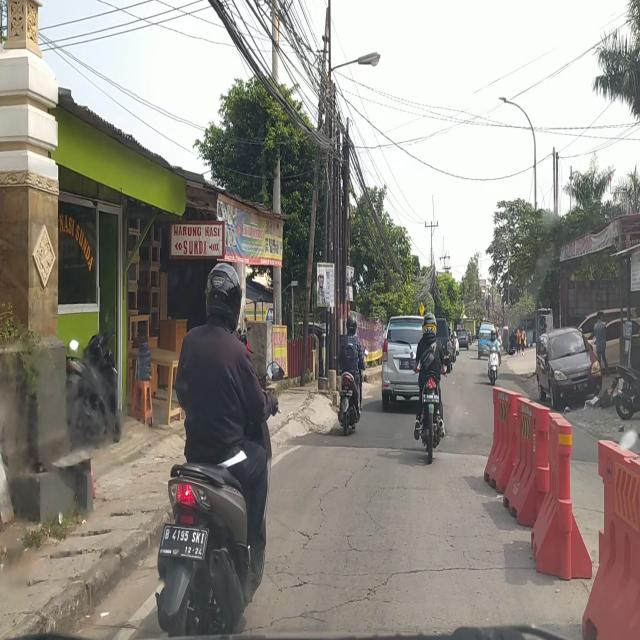Drain Hole: (260, 458, 398, 622)
Sewer Cover: (398, 562, 537, 578)
